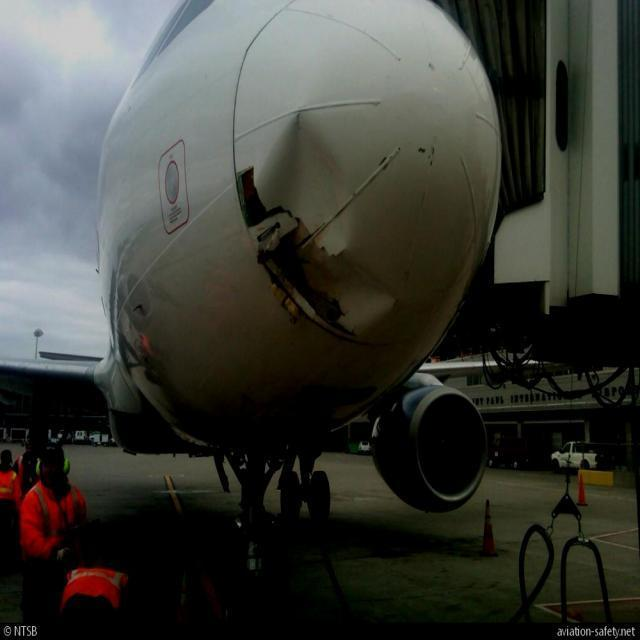dent: (258, 109, 349, 255), (336, 262, 398, 324)
